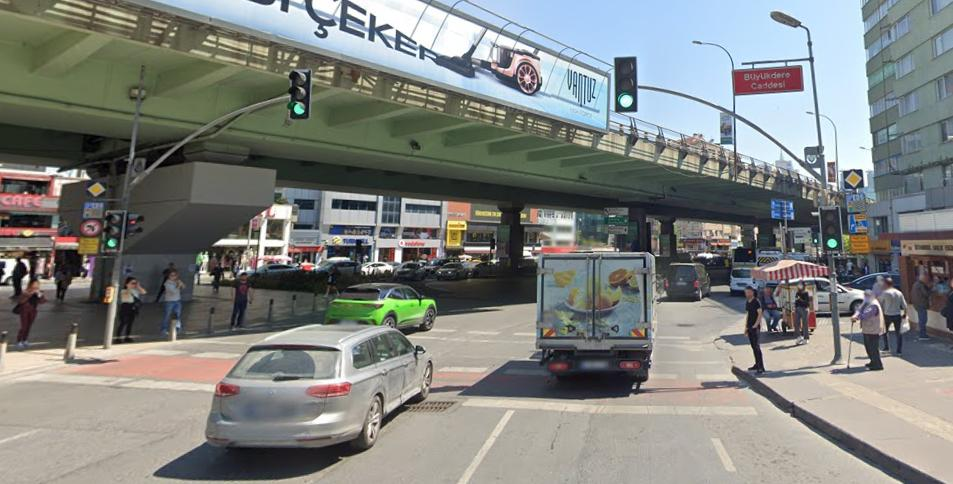greenlight: (615, 56, 637, 111), (818, 206, 841, 253), (291, 69, 312, 117), (103, 212, 123, 255)
leftturnsareforbidden: (80, 220, 99, 236)
